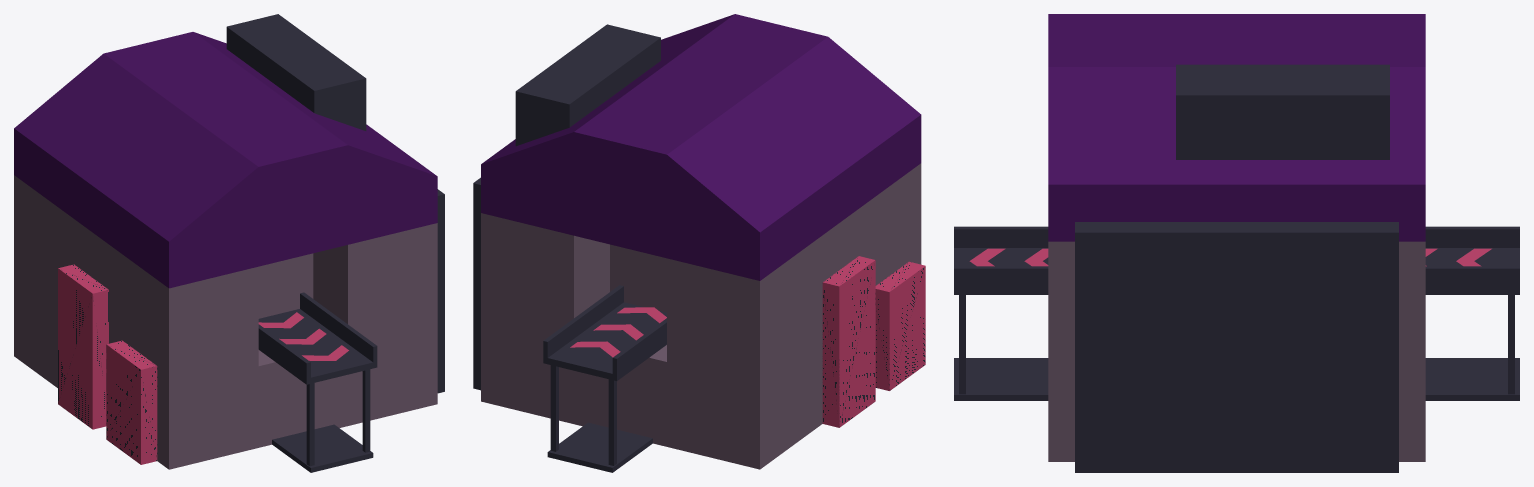
Rendered from machine.glb.
3 views of the same model, side by side, from view 1: azimuth 30°, elevation 25°; view 2: azimuth 150°, elevation 25°; view 3: azimuth 270°, elevation 25° (orthographic). The views are drawn at different scales.
Parts seen in each view (by area): view 1: machine; view 2: machine; view 3: machine.
Boxes of the visible parts, x1,y1,x2,y2 form: machine: [14, 14, 444, 472]; machine: [473, 14, 925, 472]; machine: [954, 14, 1519, 472].
Bounding box in the file's own units: 2.26 × 2.08 × 3.
1 material, 1 textured.
